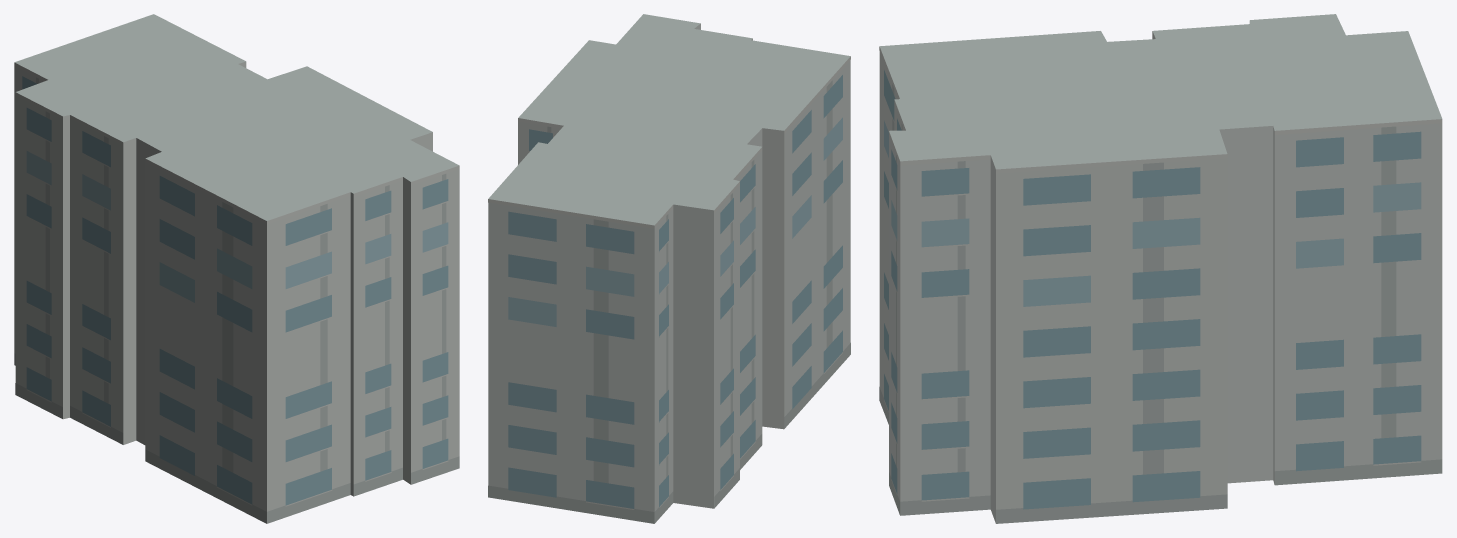
File: survey-upis-32800094.glb
3 views of the same model, side by side, from view 1: azimuth 30°, elevation 25°; view 2: azimuth 150°, elevation 25°; view 3: azimuth 270°, elevation 25° (orthographic). The views are drawn at different scales.
Visible parts, largest first — view 1: survey-upis-32800094.tmp; view 2: survey-upis-32800094.tmp; view 3: survey-upis-32800094.tmp.
Boxes of the visible parts, bbox=[...] form: survey-upis-32800094.tmp: bbox=[14, 14, 459, 523]; survey-upis-32800094.tmp: bbox=[488, 14, 850, 523]; survey-upis-32800094.tmp: bbox=[879, 14, 1442, 523].
Bounding box in the file's own units: 19.29 × 20.5 × 29.52.
